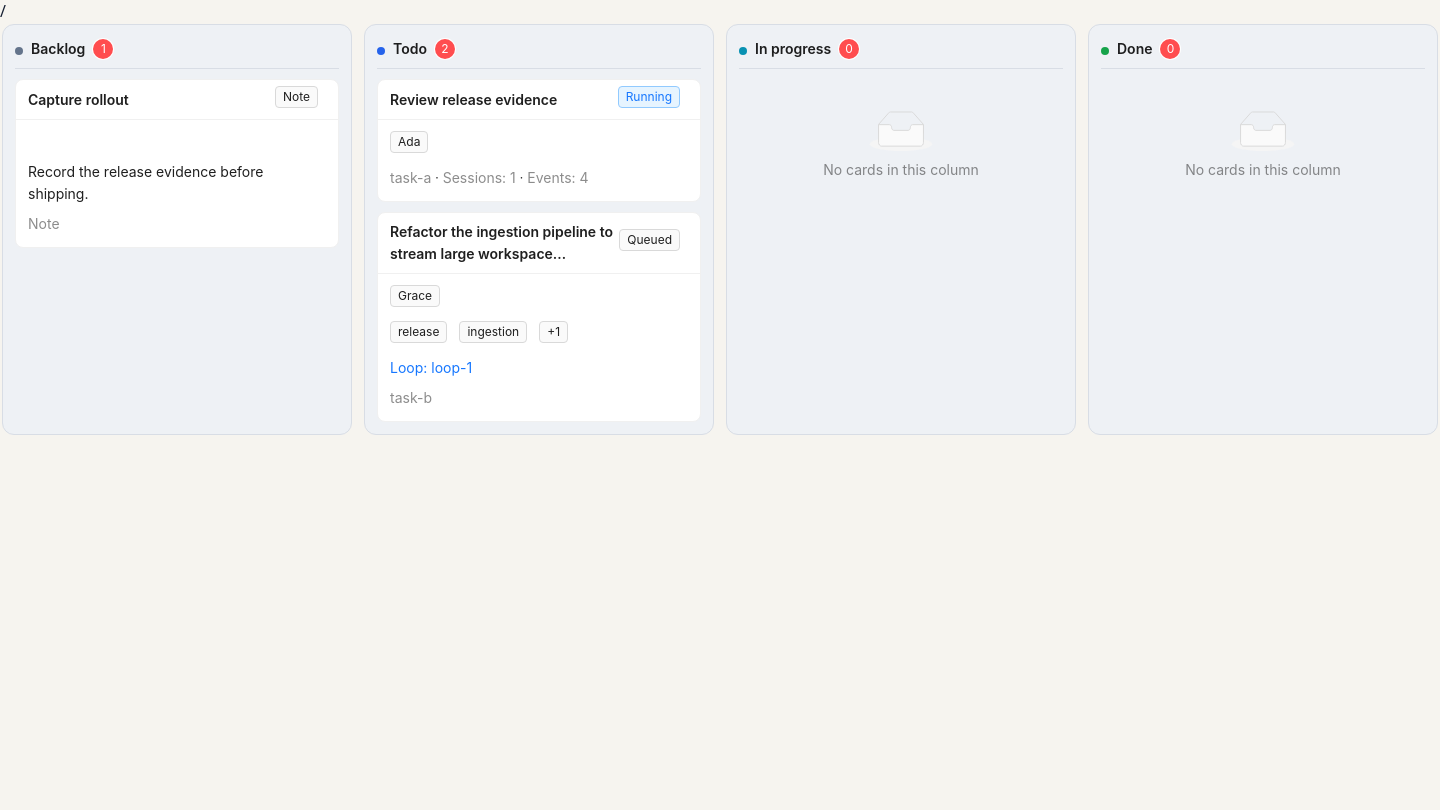
Test case: TaskBoardGrid pointer dragging › moves a note into In progress without starting anything and opens the note modal on click
Press the mouse on the link with aria-label "Open note: Capture rollout": x=177, y=164 [15,79,339,248]
Click the link with aria-label "Open note: Capture rollout": x=177, y=164 [15,79,339,248]
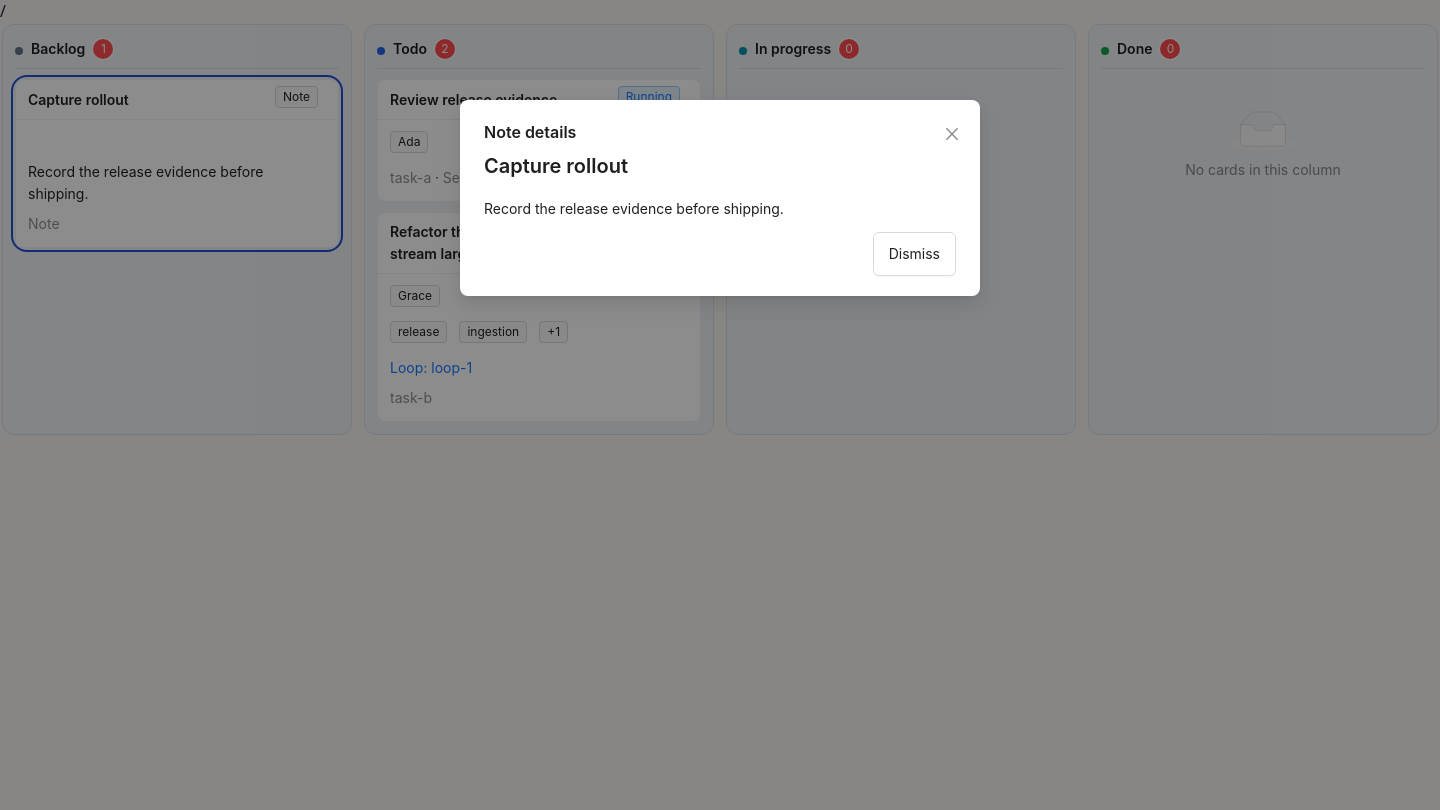
expect the text with test id "grid-location" reads "/": met, box [0,0,6,22]
expect the dialog "Note details" shows "Record the release evidence before shipping.": met, box [484,200,784,217]
